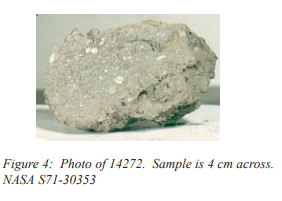Breccia: (45, 21, 217, 129)
